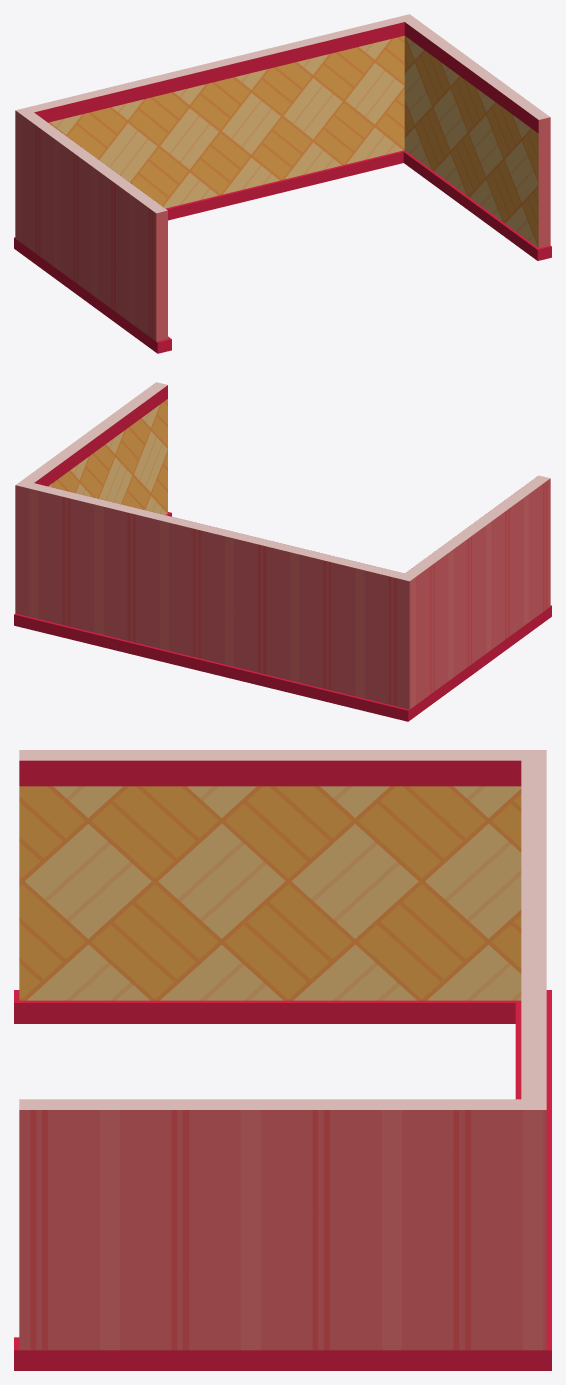
Rendered from Room02-6_Wall_geo.fbx.
3 views of the same model, one above another, from view 1: azimuth 30°, elevation 25°; view 2: azimuth 150°, elevation 25°; view 3: azimuth 270°, elevation 25° (orthographic). The views are drawn at different scales.
Parts seen in each view (by area): view 1: Room02-6_Wall_geo; view 2: Room02-6_Wall_geo; view 3: Room02-6_Wall_geo.
Part boxes in pixels (bbox=[...]): Room02-6_Wall_geo: bbox=[14, 14, 551, 353]; Room02-6_Wall_geo: bbox=[14, 382, 551, 721]; Room02-6_Wall_geo: bbox=[14, 750, 551, 1370].
Size of the model in its own units: 6.03 by 3.81 by 2.04.
